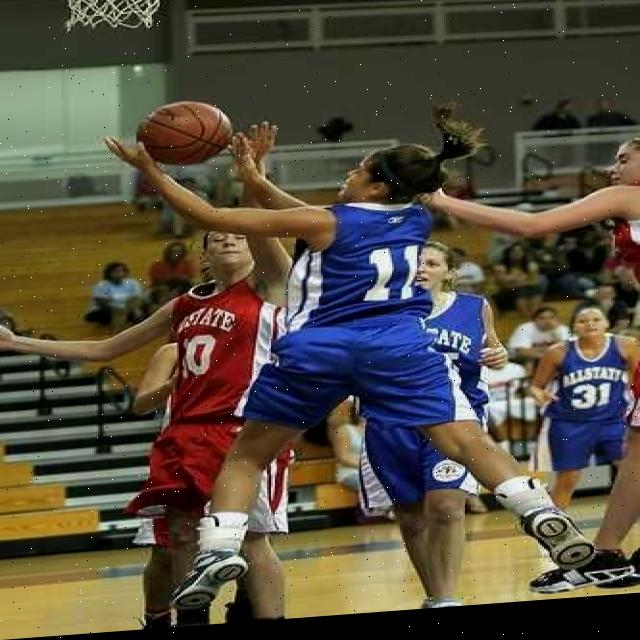basketball: (136, 95, 235, 170)
hoop: (61, 0, 173, 35)
